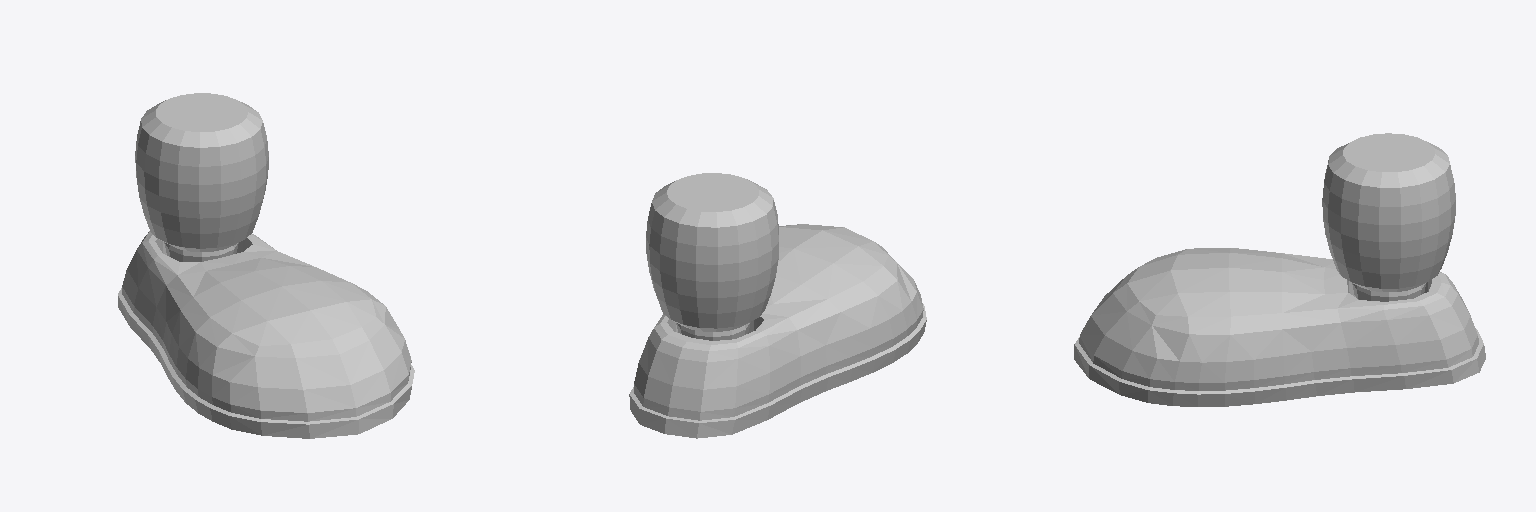
The model's file is piernaDerAb.obj.
3 views of the same model, side by side, from view 1: azimuth 30°, elevation 25°; view 2: azimuth 150°, elevation 25°; view 3: azimuth 270°, elevation 25° (orthographic).
Visible parts, largest first — view 1: BalloonBoy.008; view 2: BalloonBoy.008; view 3: BalloonBoy.008.
Part boxes in pixels (bbox=[...]): BalloonBoy.008: bbox=[118, 93, 414, 438]; BalloonBoy.008: bbox=[629, 173, 926, 438]; BalloonBoy.008: bbox=[1074, 133, 1485, 406].
Size of the model in its own units: 10.19 by 9.89 by 17.91.